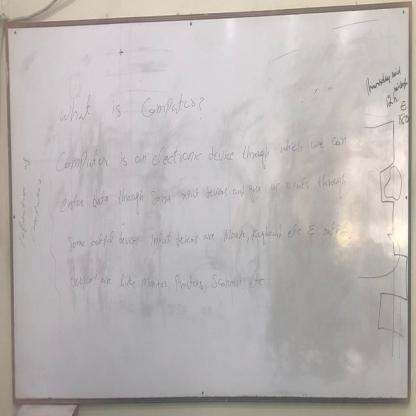Handwritten text: (55, 124, 357, 188), (59, 168, 356, 217), (61, 216, 285, 255), (67, 263, 254, 305), (57, 89, 202, 131)
Whiteboard: (4, 2, 411, 402)
